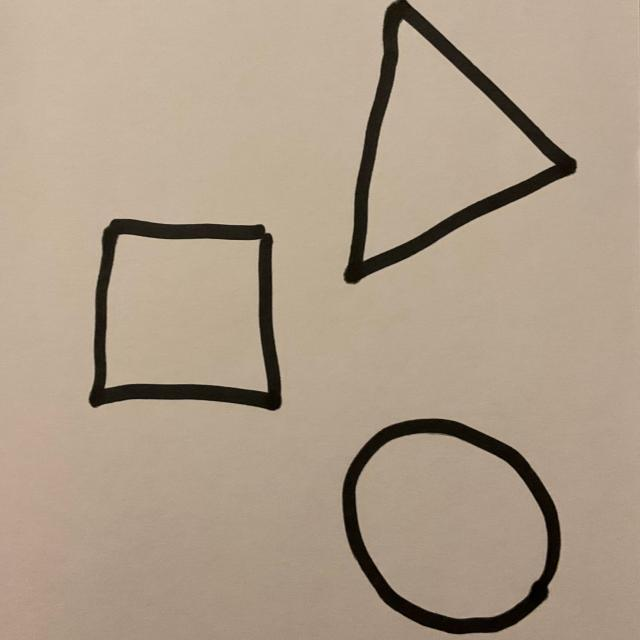Dreieck: (344, 0, 578, 286)
Kreis: (340, 418, 563, 637)
Quadrat: (87, 219, 283, 414)
